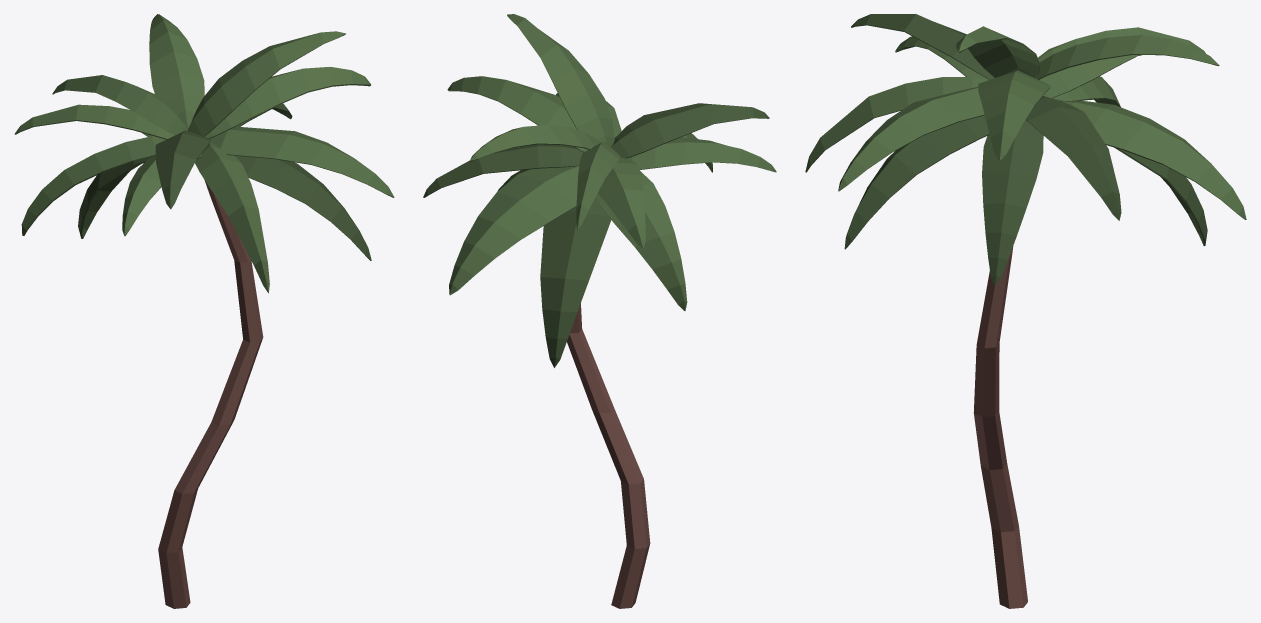
File: palmtree_harvested.glb
The picture shows the model from 3 angles, left to right: view 1: azimuth 30°, elevation 25°; view 2: azimuth 150°, elevation 25°; view 3: azimuth 270°, elevation 25°; orthographic projection. The views are drawn at different scales.
Visible parts, largest first — view 1: PalmTree_Harvested; view 2: PalmTree_Harvested; view 3: PalmTree_Harvested.
Boxes of the visible parts, box(x1,y1,x2,y2) form: PalmTree_Harvested: box(14, 14, 394, 608); PalmTree_Harvested: box(423, 14, 776, 608); PalmTree_Harvested: box(805, 14, 1246, 608).
Bounding box in the file's own units: 1.81 × 3.25 × 2.05.
